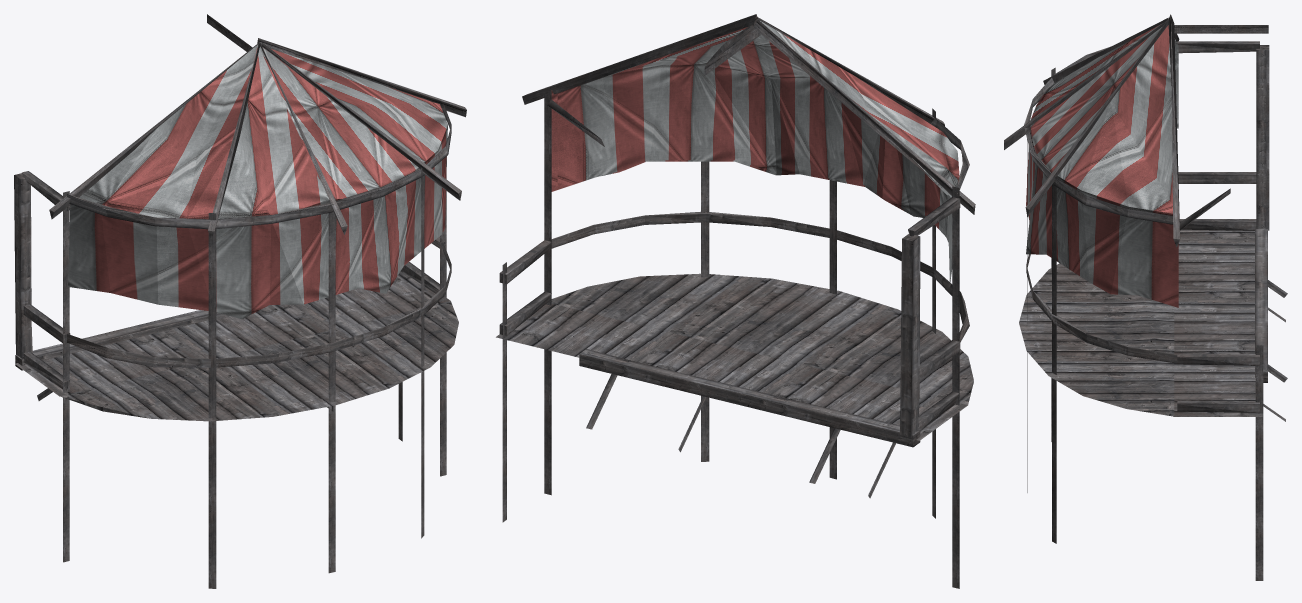
The model's file is v3_balcony_LOD.dae.
3 renders of one model, left to right at view 1: azimuth 30°, elevation 25°; view 2: azimuth 150°, elevation 25°; view 3: azimuth 270°, elevation 25°, orthographic. The views are drawn at different scales.
Parts seen in each view (by area): view 1: cloth_001_c, woodPlanks; view 2: woodPlanks, cloth_001_c; view 3: woodPlanks, cloth_001_c.
Part boxes in pixels (x1,y1,x2,y2): cloth_001_c: (68,44,447,318); woodPlanks: (14,14,466,588); woodPlanks: (496,14,975,588); cloth_001_c: (551,20,959,283); woodPlanks: (1004,14,1287,580); cloth_001_c: (1026,24,1178,307).
Bounding box in the file's own units: 10.44 × 11.67 × 6.23.
